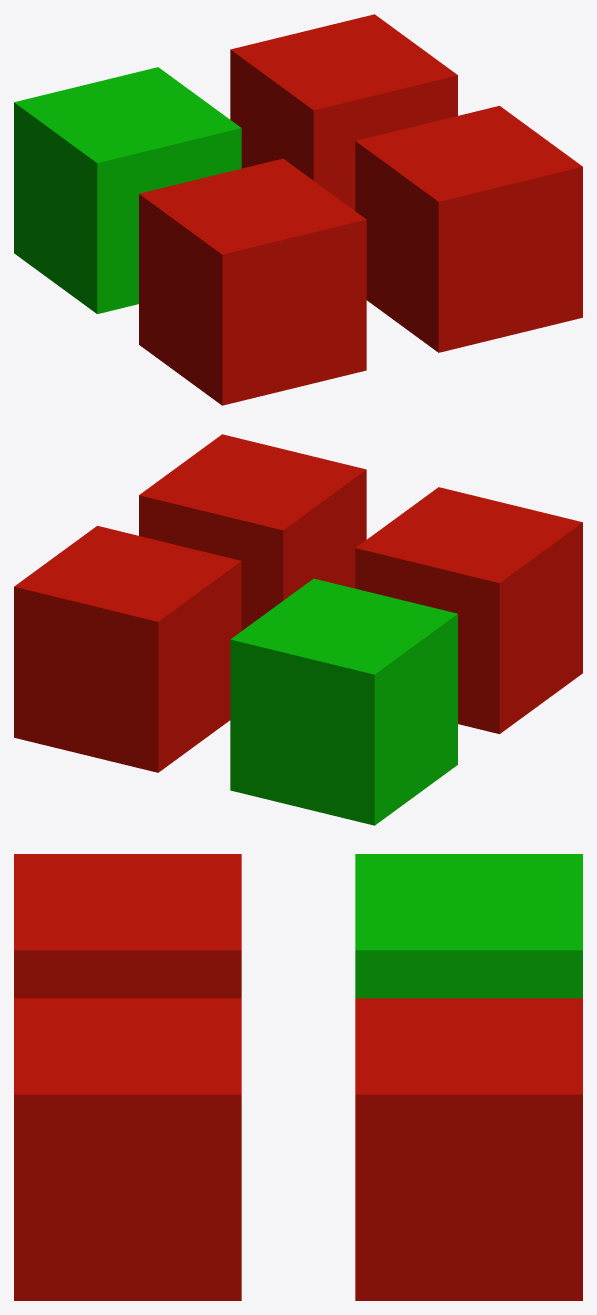
3 renders of one model, top to bottom at view 1: azimuth 30°, elevation 25°; view 2: azimuth 150°, elevation 25°; view 3: azimuth 270°, elevation 25°, orthographic. The views are drawn at different scales.
Parts seen in each view (by area): view 1: Cube.001, Cube, Cube.003, Cube.002; view 2: Cube.003, Cube.002, Cube.001, Cube; view 3: Cube, Cube.002, Cube.001, Cube.003.
Part boxes in pixels (left/top/right/bottom): Cube.001: left=139, top=158, right=366, bottom=405; Cube: left=355, top=106, right=582, bottom=352; Cube.003: left=14, top=67, right=241, bottom=313; Cube.002: left=230, top=14, right=457, bottom=210; Cube.003: left=230, top=578, right=457, bottom=825; Cube.002: left=14, top=526, right=241, bottom=772; Cube.001: left=355, top=487, right=582, bottom=733; Cube: left=139, top=434, right=366, bottom=630; Cube: left=14, top=998, right=241, bottom=1300; Cube.002: left=355, top=998, right=582, bottom=1300; Cube.001: left=14, top=854, right=241, bottom=998; Cube.003: left=355, top=854, right=582, bottom=998.
Size of the model in its own units: 5 by 2 by 5.
